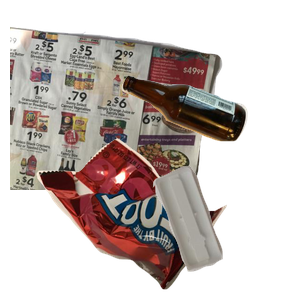glass: (119, 73, 300, 207)
paper: (10, 22, 225, 202)
plastic: (150, 163, 300, 300)
trash: (34, 136, 253, 300)
